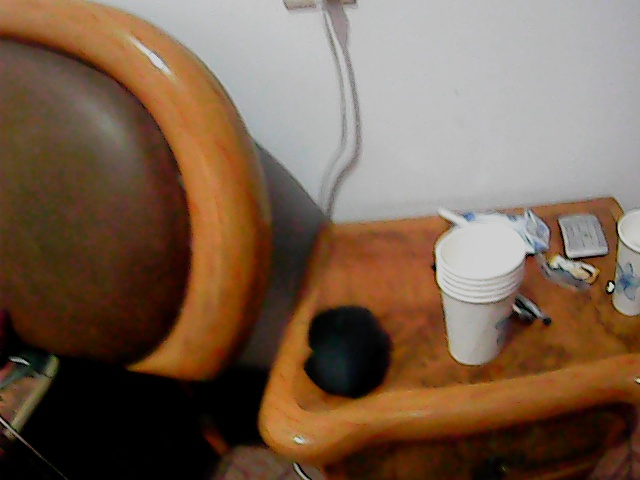cup: (436, 219, 528, 365)
mouse: (303, 301, 391, 396)
